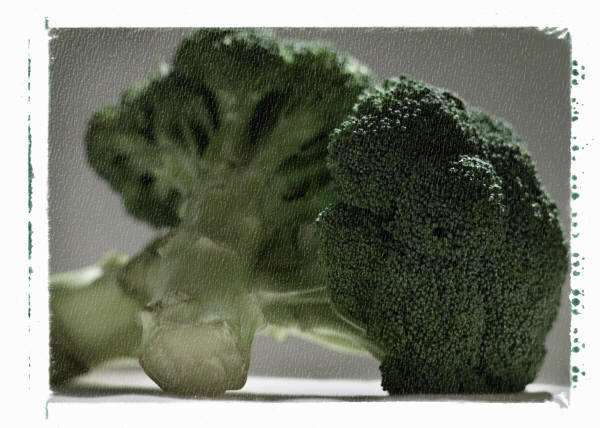broccoli: (49, 25, 571, 400)
